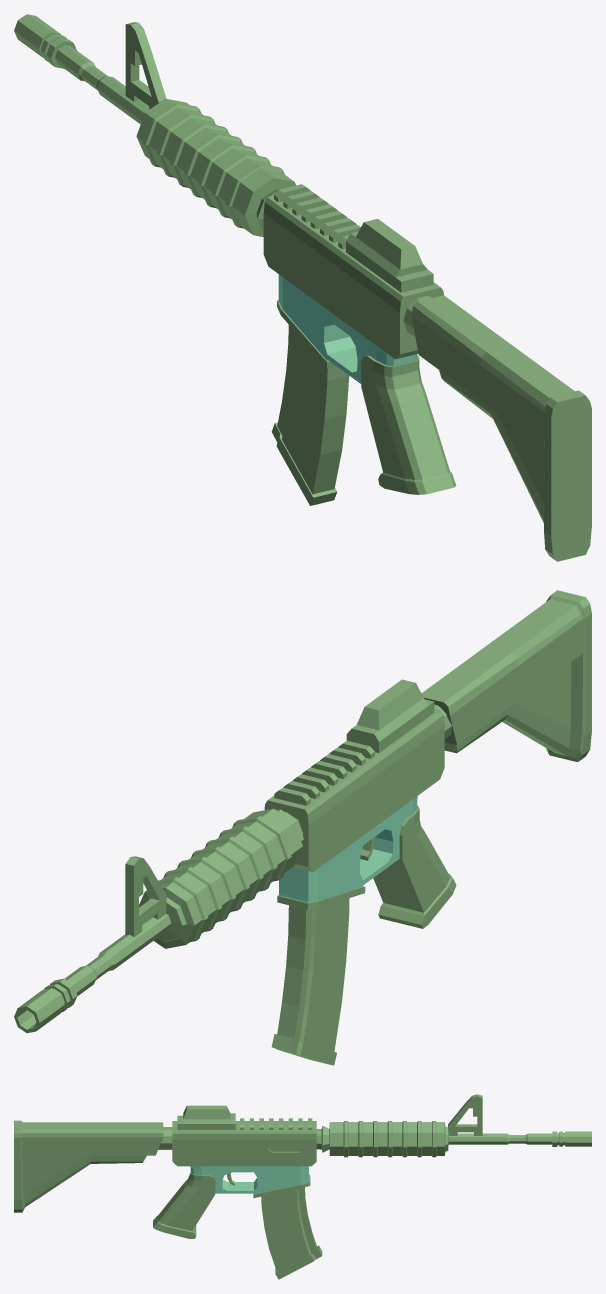
File: pulse.glb
The picture shows the model from 3 angles, top to bottom: view 1: azimuth 30°, elevation 25°; view 2: azimuth 150°, elevation 25°; view 3: azimuth 270°, elevation 25°; orthographic projection. The views are drawn at different scales.
Visible parts, largest first — view 1: RIVALS-rifle; view 2: RIVALS-rifle; view 3: RIVALS-rifle.
Boxes of the visible parts, <box> form: RIVALS-rifle: <box>14,14,591,561</box>; RIVALS-rifle: <box>14,590,591,1065</box>; RIVALS-rifle: <box>14,1094,591,1279</box>.
Bounding box in the file's own units: 0.1776 × 0.918 × 2.65.
